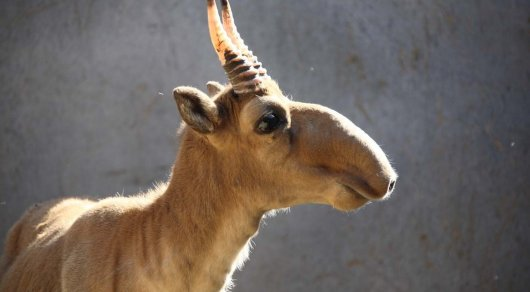saiga: (1, 9, 431, 292)
